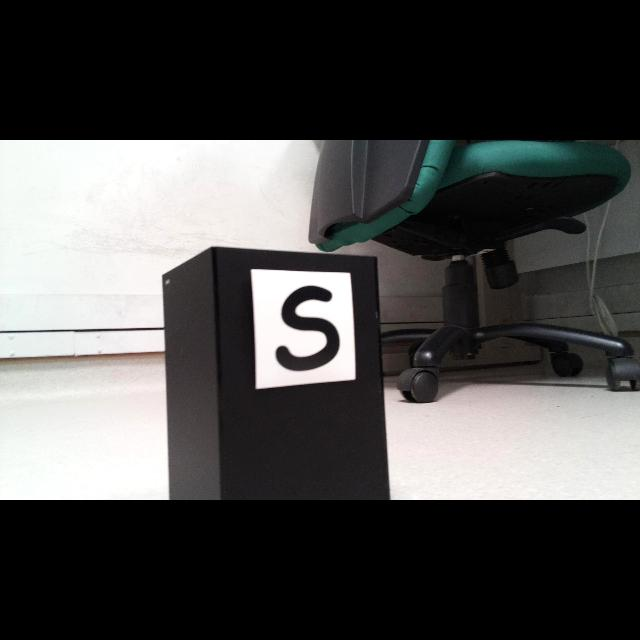S: (276, 285, 340, 372)
